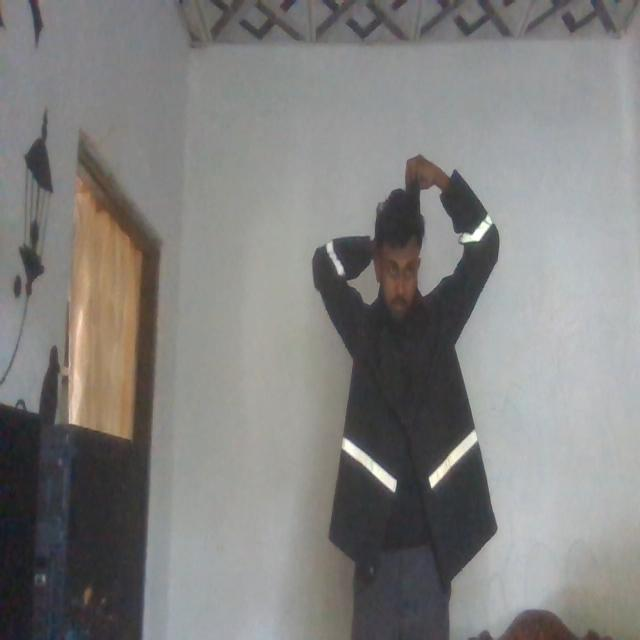Jacket_Wearer: (308, 220, 496, 592)
Person: (305, 153, 497, 640)
